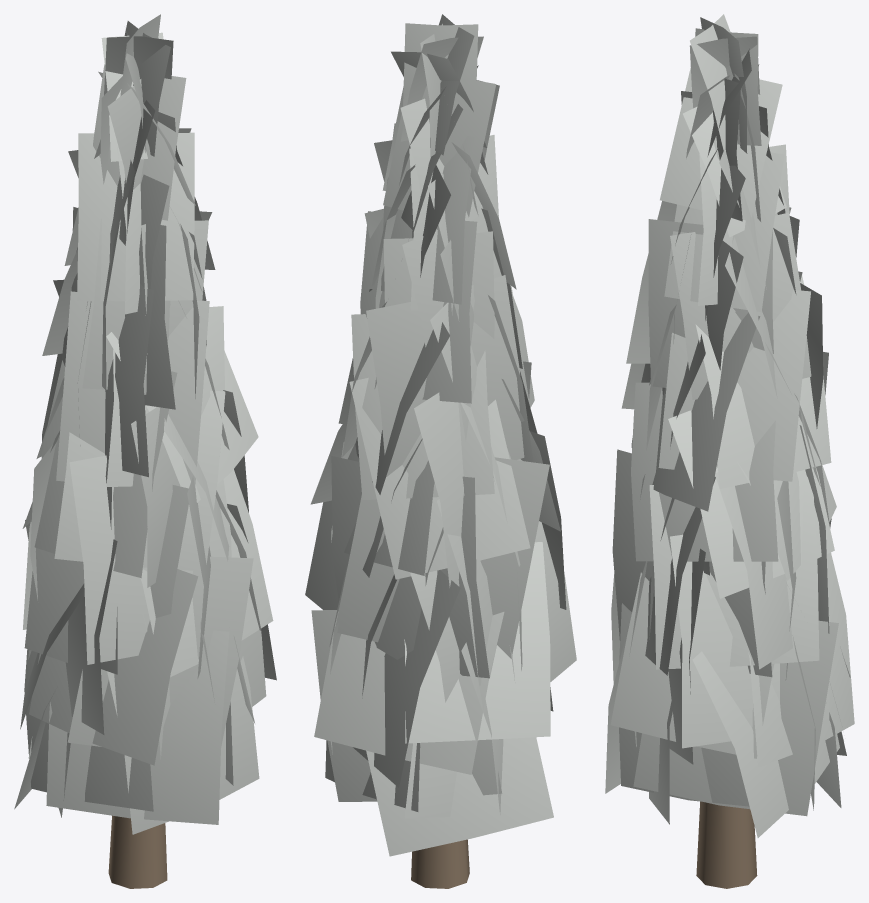
File: OW_CypressTree.fbx
The picture shows the model from 3 angles, left to right: view 1: azimuth 30°, elevation 25°; view 2: azimuth 150°, elevation 25°; view 3: azimuth 270°, elevation 25°; orthographic projection.
Parts seen in each view (by area): view 1: OW_CypressTree; view 2: OW_CypressTree; view 3: OW_CypressTree.
Part boxes in pixels (x1,y1,x2,y2): OW_CypressTree: [14, 14, 276, 888]; OW_CypressTree: [305, 14, 576, 888]; OW_CypressTree: [605, 14, 854, 888].
Bounding box in the file's own units: 1.98 × 6.79 × 1.81.
